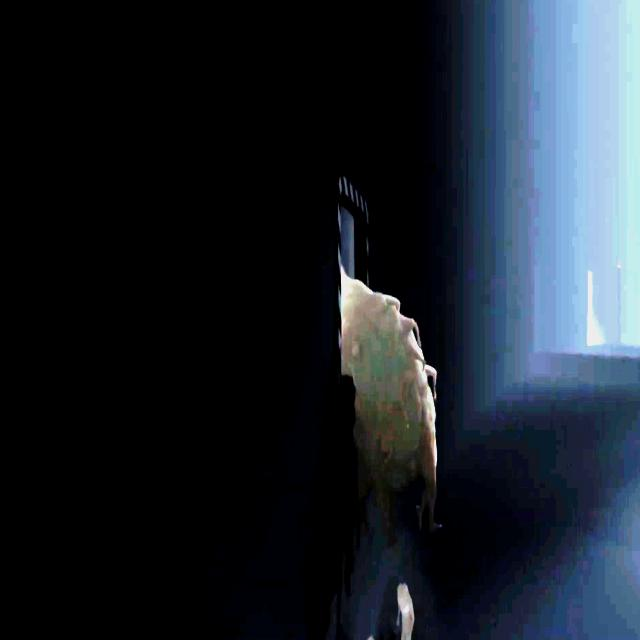blob: (342, 266, 444, 536)
dog: (99, 579, 106, 583)
zombie: (396, 574, 414, 640)
